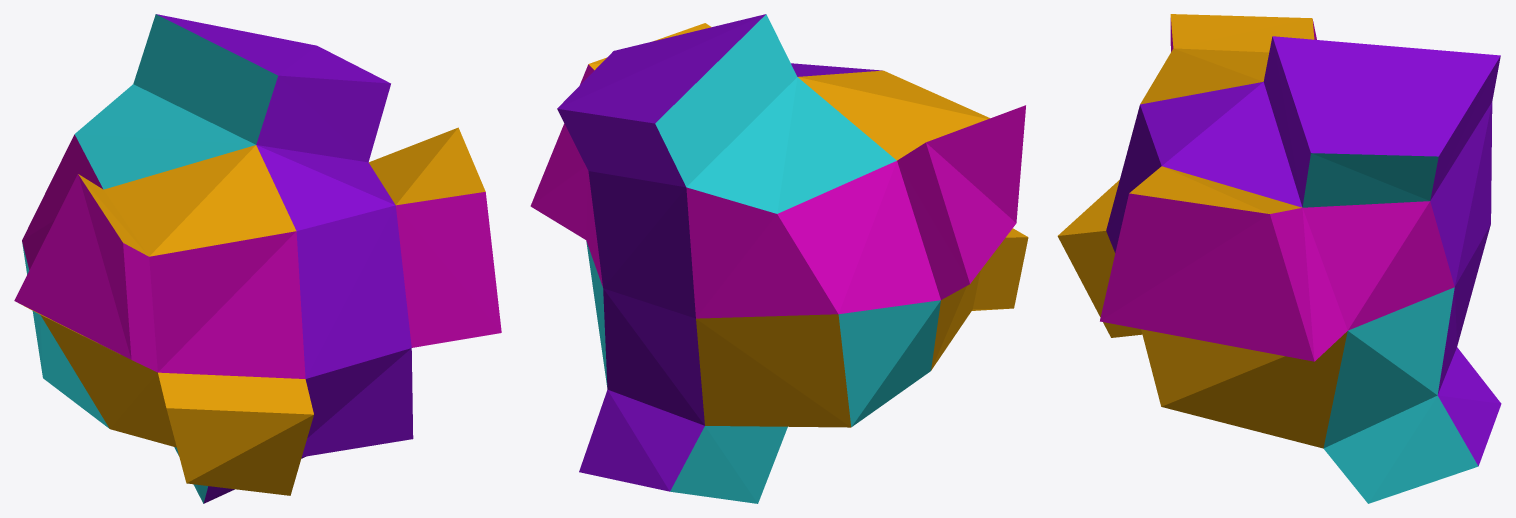
File: blah cube ex.dae
3 views of the same model, side by side, from view 1: azimuth 30°, elevation 25°; view 2: azimuth 150°, elevation 25°; view 3: azimuth 270°, elevation 25° (orthographic). The views are drawn at different scales.
Visible parts, largest first — view 1: Cube; view 2: Cube; view 3: Cube.
Boxes of the visible parts, box(x1,y1,x2,y2) form: Cube: box(14, 14, 501, 503); Cube: box(530, 14, 1028, 503); Cube: box(1057, 14, 1501, 503).
Bounding box in the file's own units: 2.06 × 1.81 × 1.98.
